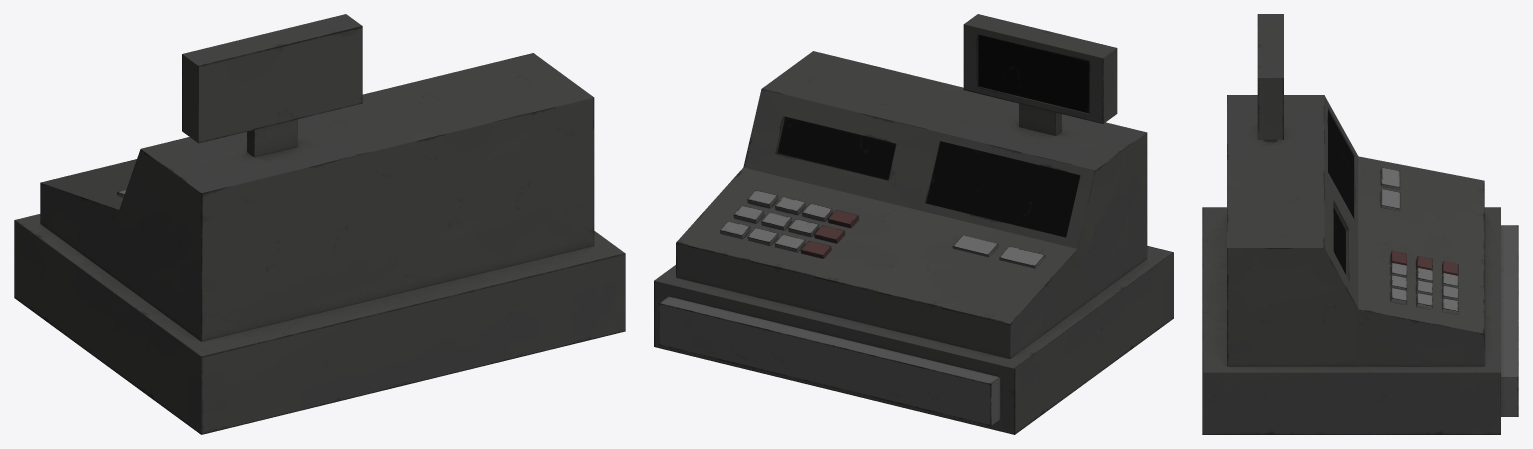
The model's file is CashRegister.fbx.
The picture shows the model from 3 angles, left to right: view 1: azimuth 30°, elevation 25°; view 2: azimuth 150°, elevation 25°; view 3: azimuth 270°, elevation 25°; orthographic projection. The views are drawn at different scales.
Visible parts, largest first — view 1: polySurface49; view 2: polySurface49; view 3: polySurface49.
Part boxes in pixels (x1,y1,x2,y2): polySurface49: (14,14,625,434); polySurface49: (654,14,1173,434); polySurface49: (1202,14,1518,434).
Bounding box in the file's own units: 56.79 × 42.92 × 45.95.
